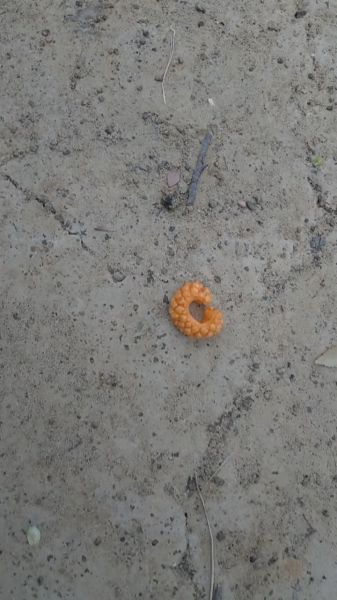eggs: (164, 270, 224, 344)
